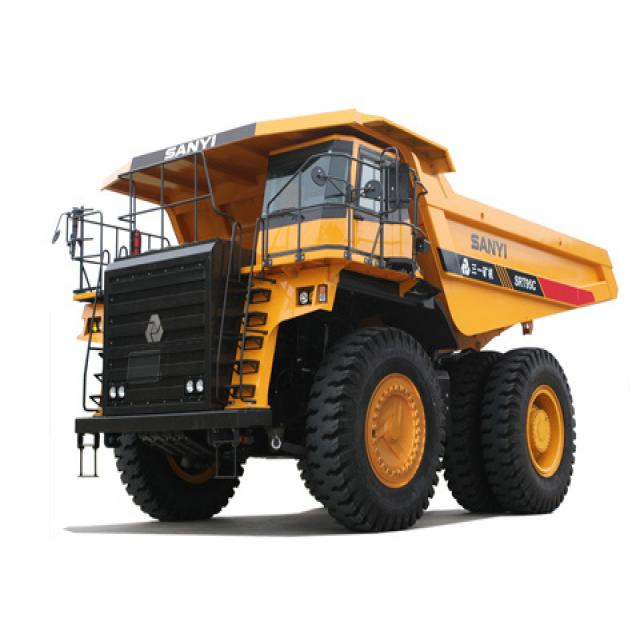dump_truck: (33, 104, 634, 542)
